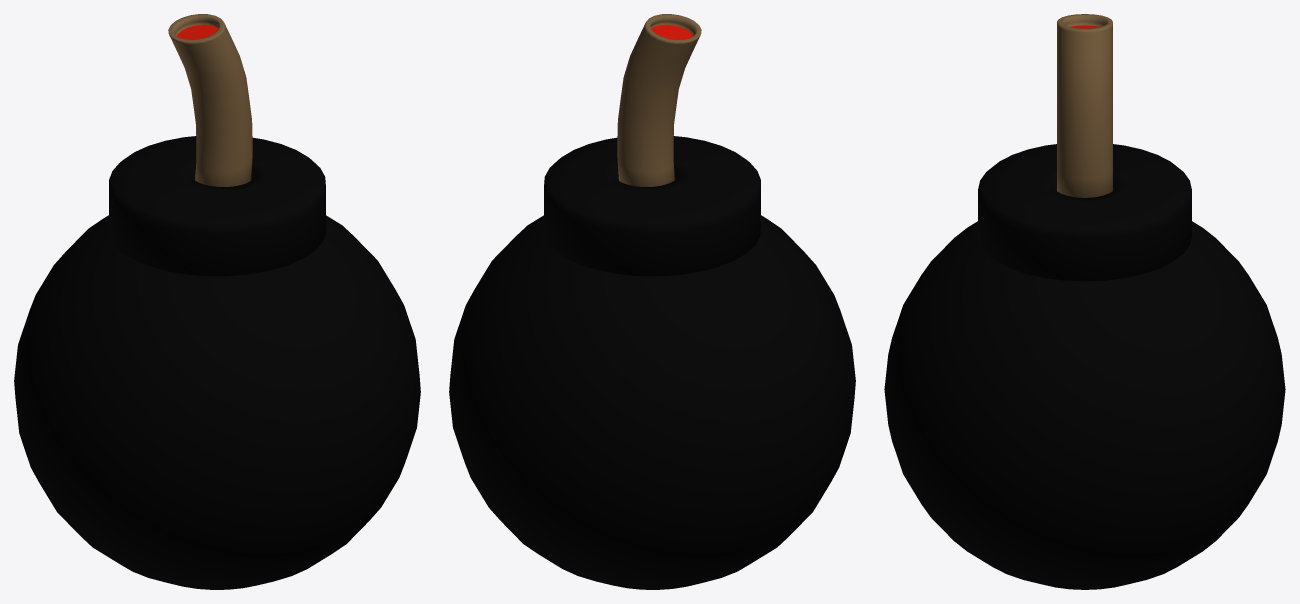
The model's file is basic bomb.fbx.
3 renders of one model, left to right at view 1: azimuth 30°, elevation 25°; view 2: azimuth 150°, elevation 25°; view 3: azimuth 270°, elevation 25°, orthographic.
Visible parts, largest first — view 1: Sphere, Cylinder, Cylinder.001; view 2: Sphere, Cylinder, Cylinder.001; view 3: Sphere, Cylinder, Cylinder.001.
Part boxes in pixels (x1,y1,x2,y2): Sphere: [14, 215, 420, 589]; Cylinder: [109, 136, 325, 276]; Cylinder.001: [168, 14, 252, 186]; Sphere: [449, 215, 855, 589]; Cylinder: [544, 136, 760, 276]; Cylinder.001: [617, 14, 701, 186]; Sphere: [884, 221, 1285, 589]; Cylinder: [978, 144, 1191, 281]; Cylinder.001: [1057, 14, 1112, 197].
Bounding box in the file's own units: 386 × 577 × 386.
